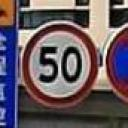speed_limit_50: (21, 20, 98, 108)
